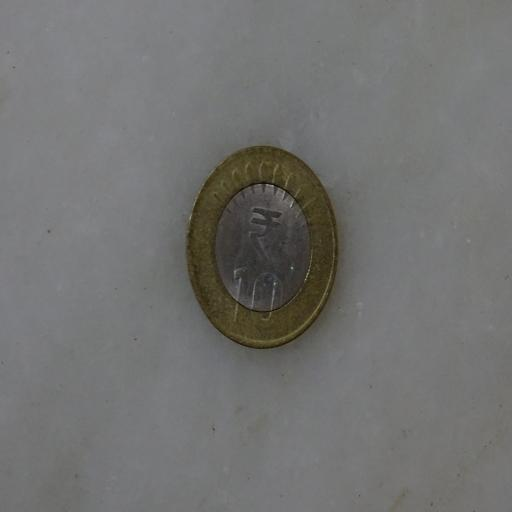rupee10: (183, 142, 342, 352)
